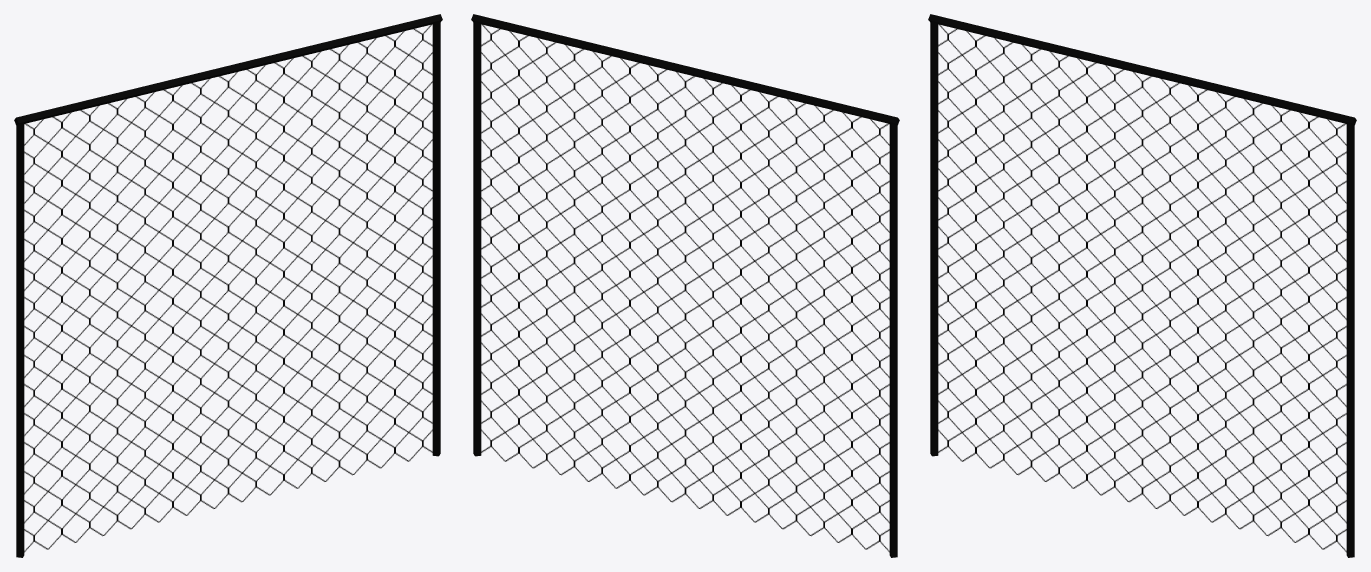
Rendered from fence-metal-closed.glb.
3 views of the same model, side by side, from view 1: azimuth 30°, elevation 25°; view 2: azimuth 150°, elevation 25°; view 3: azimuth 330°, elevation 25° (orthographic).
Visible parts, largest first — view 1: fence-metal-closed; view 2: fence-metal-closed; view 3: fence-metal-closed.
Boxes of the visible parts, <box> form: fence-metal-closed: <box>14,14,442,557</box>; fence-metal-closed: <box>471,14,899,557</box>; fence-metal-closed: <box>928,14,1356,557</box>.
Size of the model in its own units: 2.04 by 2.02 by 0.0386.
1 material, 1 textured.
